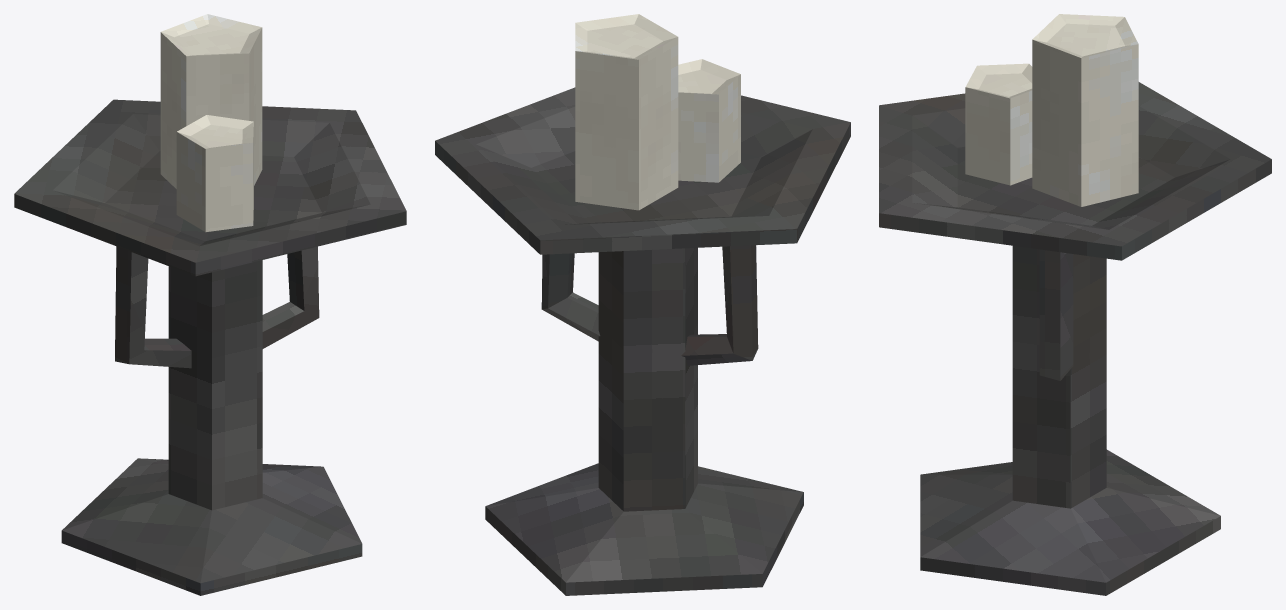
The model's file is candle.gltf.
The picture shows the model from 3 angles, left to right: view 1: azimuth 30°, elevation 25°; view 2: azimuth 150°, elevation 25°; view 3: azimuth 270°, elevation 25°; orthographic projection. The views are drawn at different scales.
Visible parts, largest first — view 1: Candle; view 2: Candle; view 3: Candle.
Boxes of the visible parts, x1,y1,x2,y2 form: Candle: (14,14,406,595); Candle: (435,14,850,595); Candle: (879,14,1271,595).
Size of the model in its own units: 0.3108 by 0.4156 by 0.2956.
Materials: 2 (2 with a texture image).
